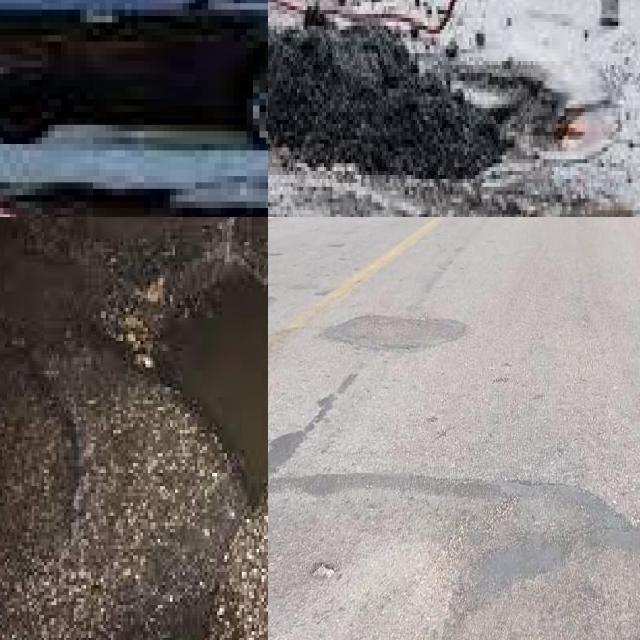Pothole: (152, 266, 268, 484), (452, 65, 608, 159), (312, 564, 335, 580)
